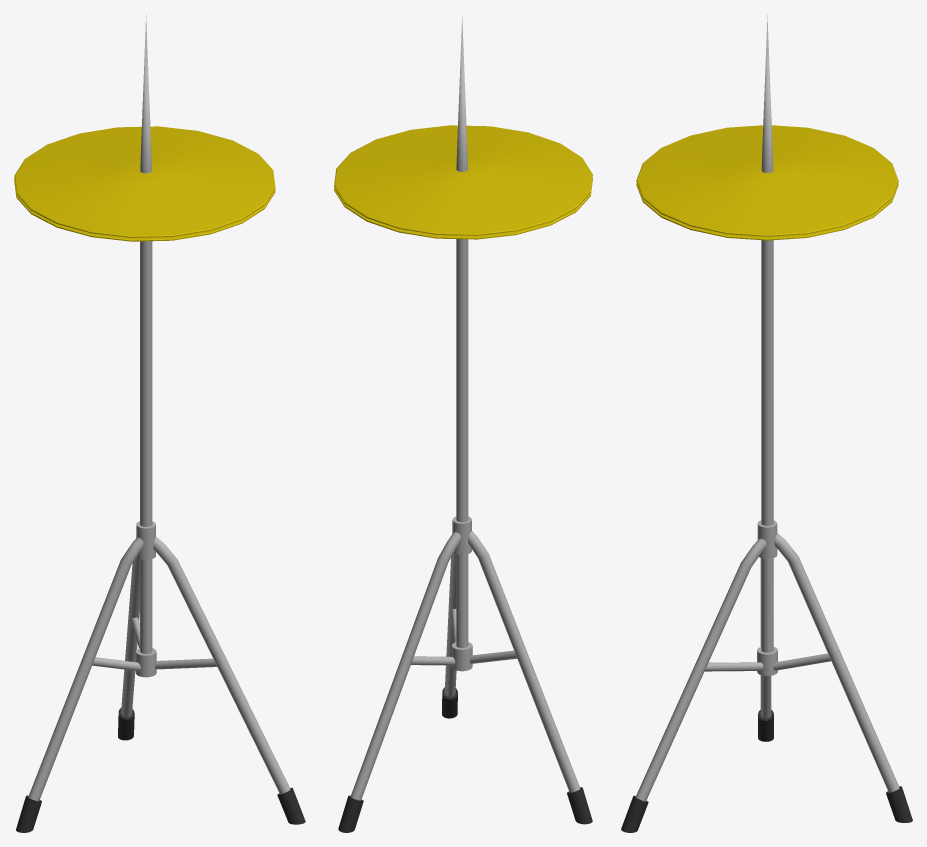
The model's file is hihat.fbx.
The picture shows the model from 3 angles, left to right: view 1: azimuth 30°, elevation 25°; view 2: azimuth 150°, elevation 25°; view 3: azimuth 270°, elevation 25°; orthographic projection.
Visible parts, largest first — view 1: pCylinder8, pCylinder33; view 2: pCylinder8, pCylinder33; view 3: pCylinder8, pCylinder33.
Part boxes in pixels (x1,y1,x2,y2): pCylinder8: (14,126,275,241); pCylinder33: (16,14,305,832); pCylinder8: (334,125,592,239); pCylinder33: (338,16,592,832); pCylinder8: (636,125,898,240); pCylinder33: (621,14,912,832).
Size of the model in its own units: 10.36 by 32.05 by 10.82.
